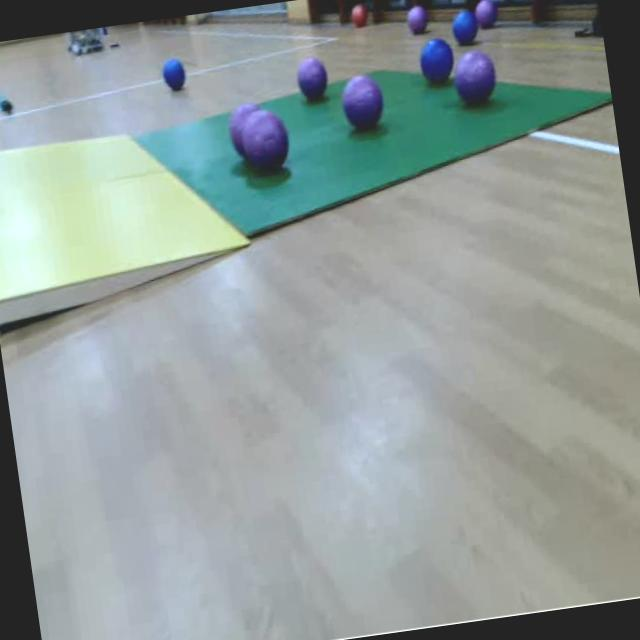blue_ball: (418, 35, 458, 86), (449, 8, 481, 50), (160, 54, 191, 95)
purple_ball: (236, 100, 293, 180), (448, 42, 504, 116), (336, 66, 388, 138), (222, 95, 270, 166), (294, 52, 332, 110), (404, 3, 430, 39), (473, 0, 500, 32)
red_ball: (346, 0, 369, 29)
